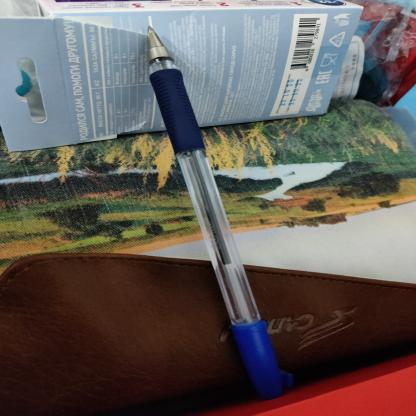Pen: (118, 12, 314, 405)
